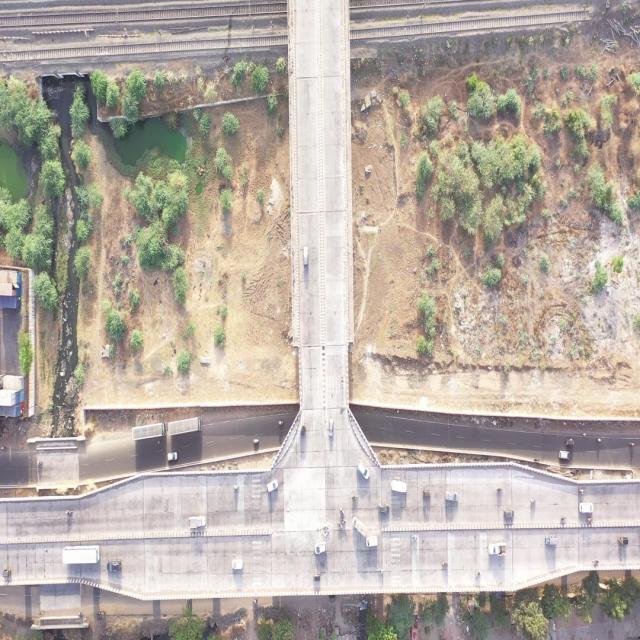3W: (421, 486, 432, 500), (1, 567, 12, 579), (95, 610, 106, 622), (617, 535, 629, 546), (300, 421, 307, 437), (312, 572, 321, 582), (565, 438, 575, 446), (327, 595, 336, 603)
Bus: (61, 544, 100, 567), (131, 421, 167, 442), (168, 416, 202, 436)
Cars: (355, 457, 372, 482), (390, 478, 408, 497), (106, 559, 122, 574), (444, 489, 460, 504), (544, 532, 559, 548), (314, 540, 328, 556), (266, 478, 279, 494), (578, 501, 594, 514), (558, 448, 571, 462), (231, 558, 244, 571), (366, 536, 378, 550), (327, 417, 334, 439), (503, 508, 515, 520), (378, 502, 389, 515), (303, 245, 309, 268), (167, 450, 178, 462)
LCV: (351, 514, 368, 538), (488, 541, 507, 558), (188, 515, 206, 529)
M2W: (576, 487, 586, 496), (494, 486, 504, 494), (376, 568, 385, 576), (409, 534, 418, 542), (473, 569, 482, 577), (591, 557, 600, 565), (64, 509, 73, 516), (340, 517, 347, 526), (336, 520, 343, 529), (339, 506, 345, 516), (233, 483, 240, 491), (441, 560, 448, 568), (529, 497, 537, 504), (252, 598, 259, 605), (253, 438, 260, 445), (560, 515, 567, 522), (586, 516, 594, 522), (340, 374, 344, 386), (36, 460, 43, 466), (351, 494, 358, 500), (533, 457, 540, 463), (278, 420, 284, 426), (77, 611, 84, 616)
